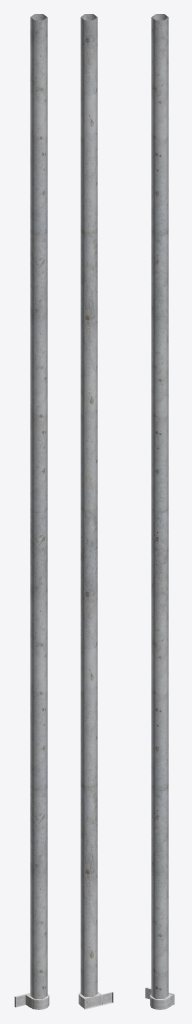
The model's file is SM_Wires_Pipes_01uu.glb.
3 renders of one model, left to right at view 1: azimuth 30°, elevation 25°; view 2: azimuth 210°, elevation 25°; view 3: azimuth 330°, elevation 25°, orthographic.
Parts seen in each view (by area): view 1: SM_Wires_Pipes_01uu; view 2: SM_Wires_Pipes_01uu; view 3: SM_Wires_Pipes_01uu.
Part boxes in pixels (left/top/right/bottom): SM_Wires_Pipes_01uu: left=14, top=14, right=49, bottom=1009; SM_Wires_Pipes_01uu: left=78, top=14, right=113, bottom=1009; SM_Wires_Pipes_01uu: left=145, top=14, right=174, bottom=1009.
Bounding box in the file's own units: 0.0605 × 2 × 0.0367.
Materials: 1 (1 with a texture image).
